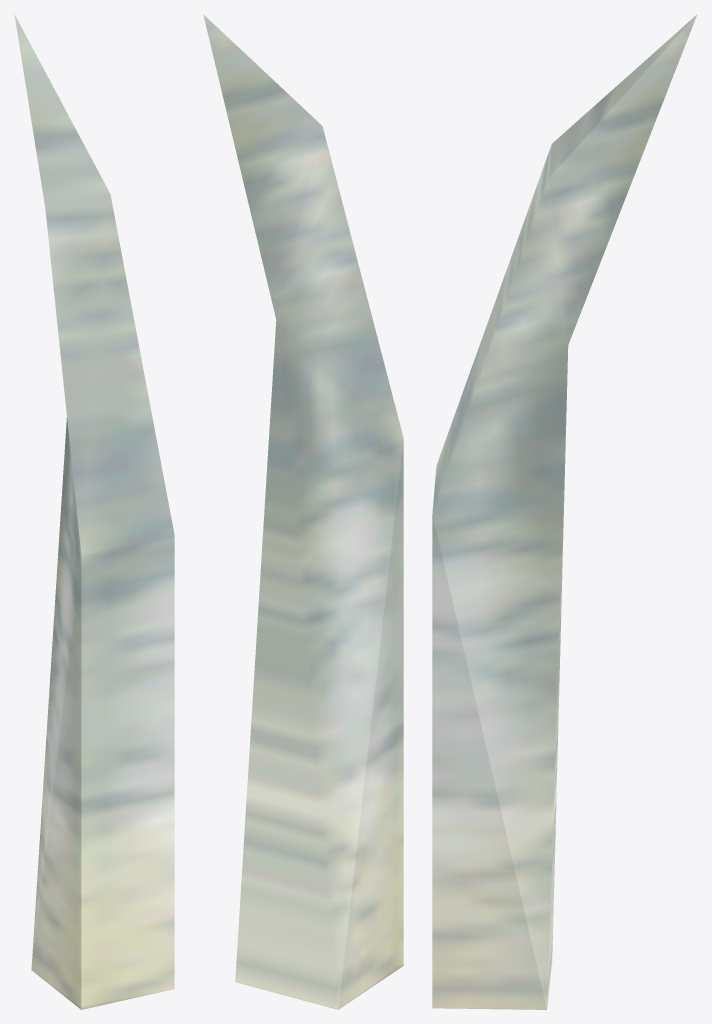
File: rib02.glb
3 views of the same model, side by side, from view 1: azimuth 30°, elevation 25°; view 2: azimuth 150°, elevation 25°; view 3: azimuth 270°, elevation 25° (orthographic). The views are drawn at different scales.
Parts seen in each view (by area): view 1: rib02; view 2: rib02; view 3: rib02.
Boxes of the visible parts, x1,y1,x2,y2 form: rib02: (14, 14, 174, 1009); rib02: (203, 14, 403, 1009); rib02: (432, 14, 697, 1009).
Bounding box in the file's own units: 263 × 2379 × 587.
Materials: 1 (1 with a texture image).
